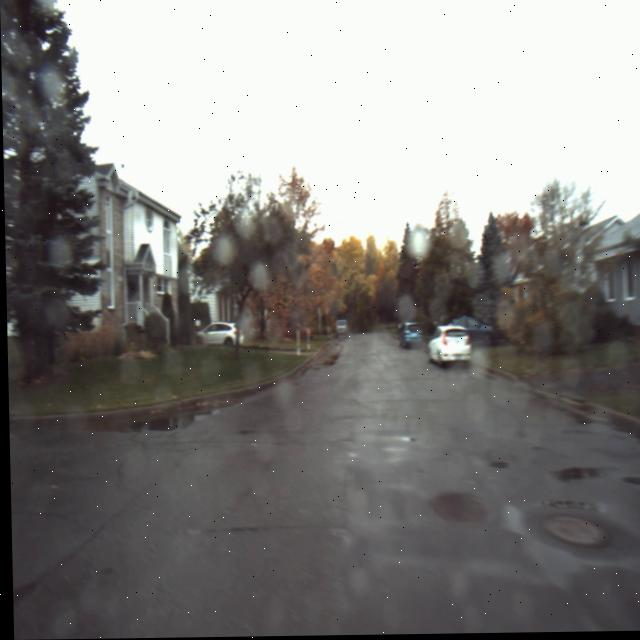car: (423, 317, 469, 375)
